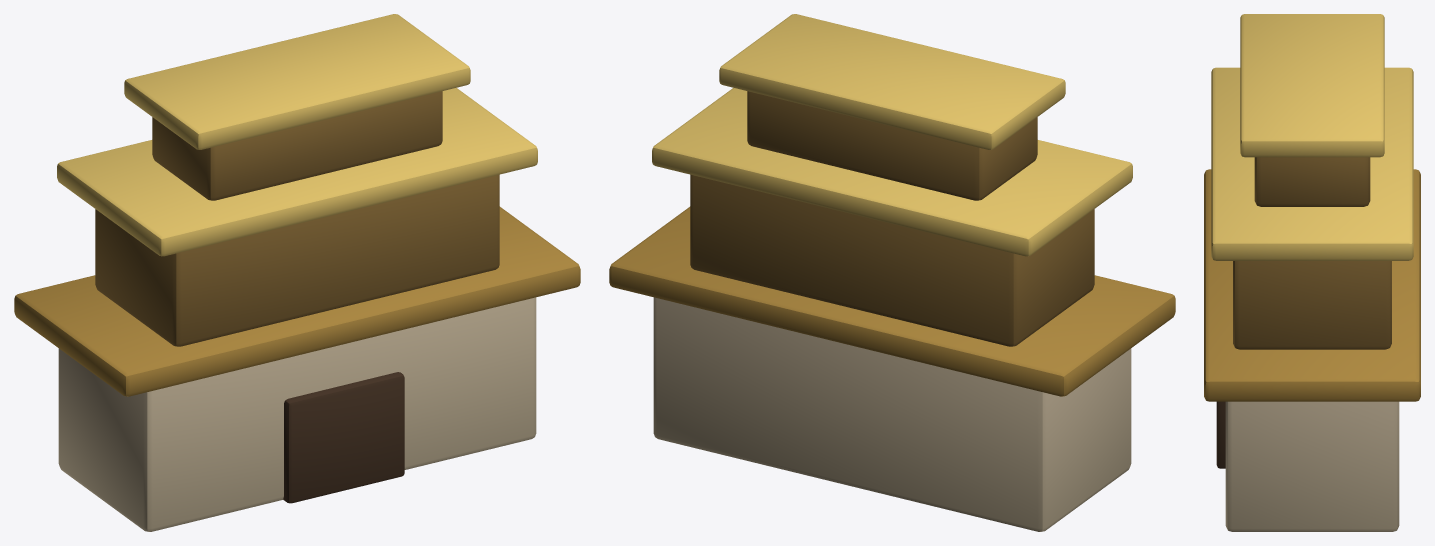
3 views of the same model, side by side, from view 1: azimuth 30°, elevation 25°; view 2: azimuth 150°, elevation 25°; view 3: azimuth 270°, elevation 25° (orthographic). The views are drawn at different scales.
Visible parts, largest first — view 1: landmark_0a6983b3; view 2: landmark_0a6983b3; view 3: landmark_0a6983b3.
Part boxes in pixels (left/top/right/bottom): landmark_0a6983b3: left=14, top=14, right=580, bottom=531; landmark_0a6983b3: left=609, top=14, right=1175, bottom=531; landmark_0a6983b3: left=1204, top=14, right=1420, bottom=531.
Size of the model in its own units: 7 by 5.59 by 3.
